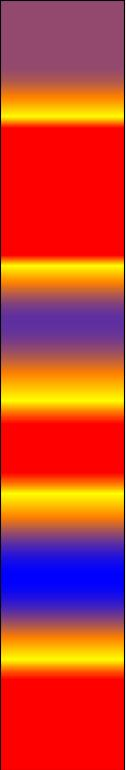Thermal Runaway: (9, 103, 113, 282), (13, 368, 114, 518), (11, 631, 116, 765)
critical: (5, 5, 119, 91), (9, 291, 113, 363)
safe: (13, 529, 118, 613)
